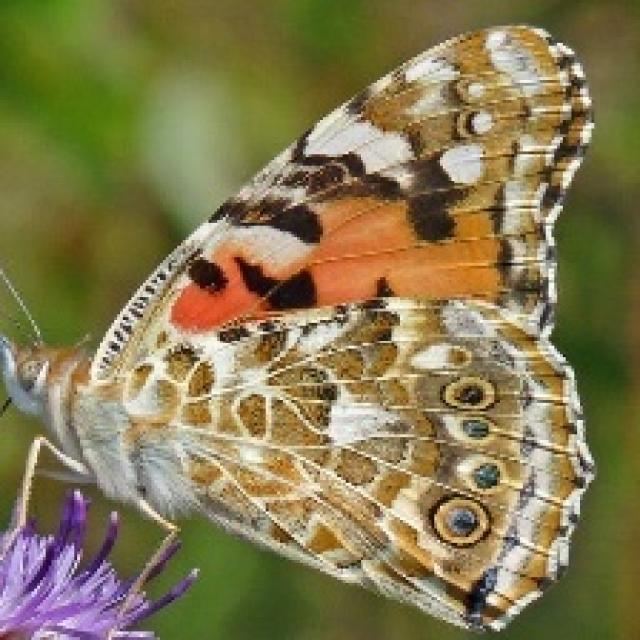butterfly: (0, 20, 597, 634)
